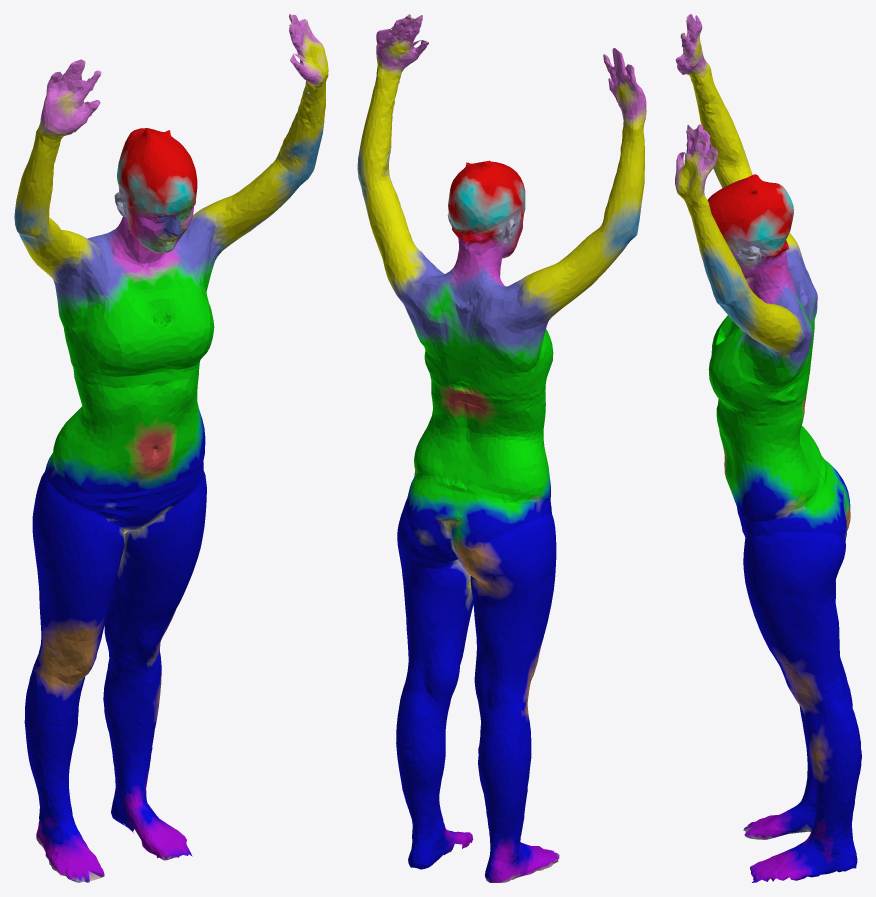
File: 119_output_fine_grained.glb
3 views of the same model, side by side, from view 1: azimuth 30°, elevation 25°; view 2: azimuth 150°, elevation 25°; view 3: azimuth 270°, elevation 25° (orthographic). The views are drawn at different scales.
Visible parts, largest first — view 1: 119_output_fine_grained.obj; view 2: 119_output_fine_grained.obj; view 3: 119_output_fine_grained.obj.
Part boxes in pixels (x1,y1,x2,y2): 119_output_fine_grained.obj: [14, 14, 328, 882]; 119_output_fine_grained.obj: [357, 14, 646, 882]; 119_output_fine_grained.obj: [675, 14, 861, 882].
Size of the model in its own units: 0.7106 by 1.94 by 0.4111.
